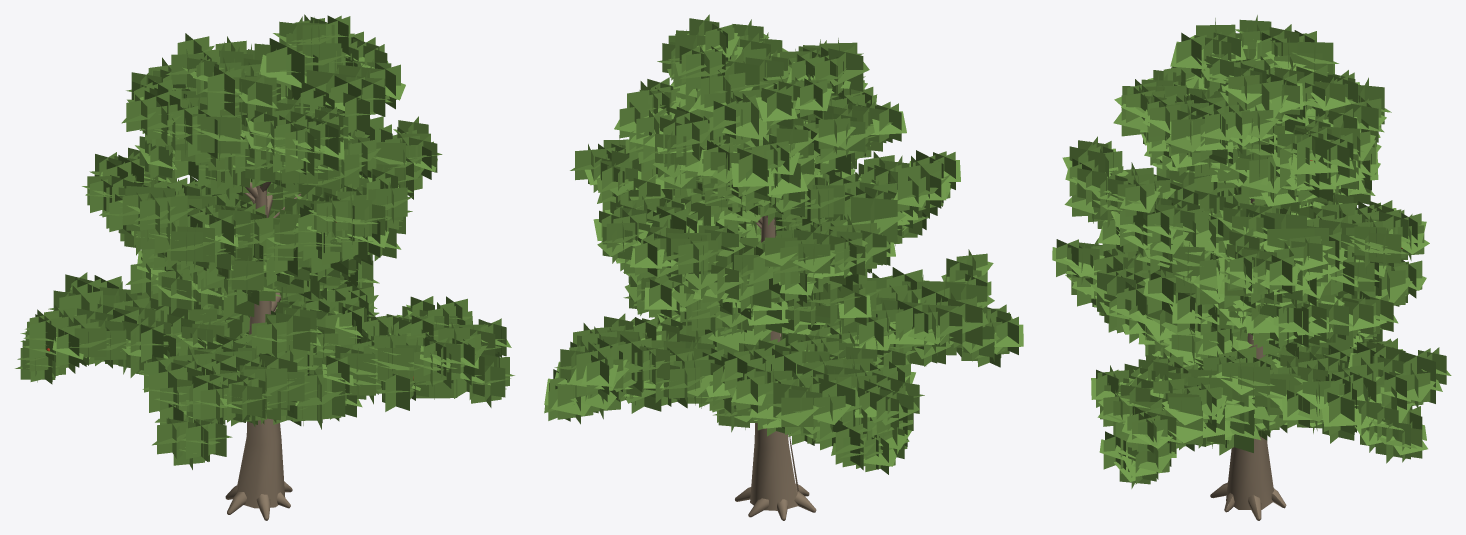
Rendered from pommier_5_f2_jeu.glb.
3 renders of one model, left to right at view 1: azimuth 30°, elevation 25°; view 2: azimuth 150°, elevation 25°; view 3: azimuth 270°, elevation 25°, orthographic.
Parts seen in each view (by area): view 1: Pommier_T5_f2_Leger; view 2: Pommier_T5_f2_Leger; view 3: Pommier_T5_f2_Leger.
Boxes of the visible parts, box(x1,y1,x2,y2) form: Pommier_T5_f2_Leger: box(15, 14, 514, 520); Pommier_T5_f2_Leger: box(544, 14, 1023, 520); Pommier_T5_f2_Leger: box(1052, 15, 1451, 520).
Bounding box in the file's own units: 8.41 × 9.63 × 7.51.
